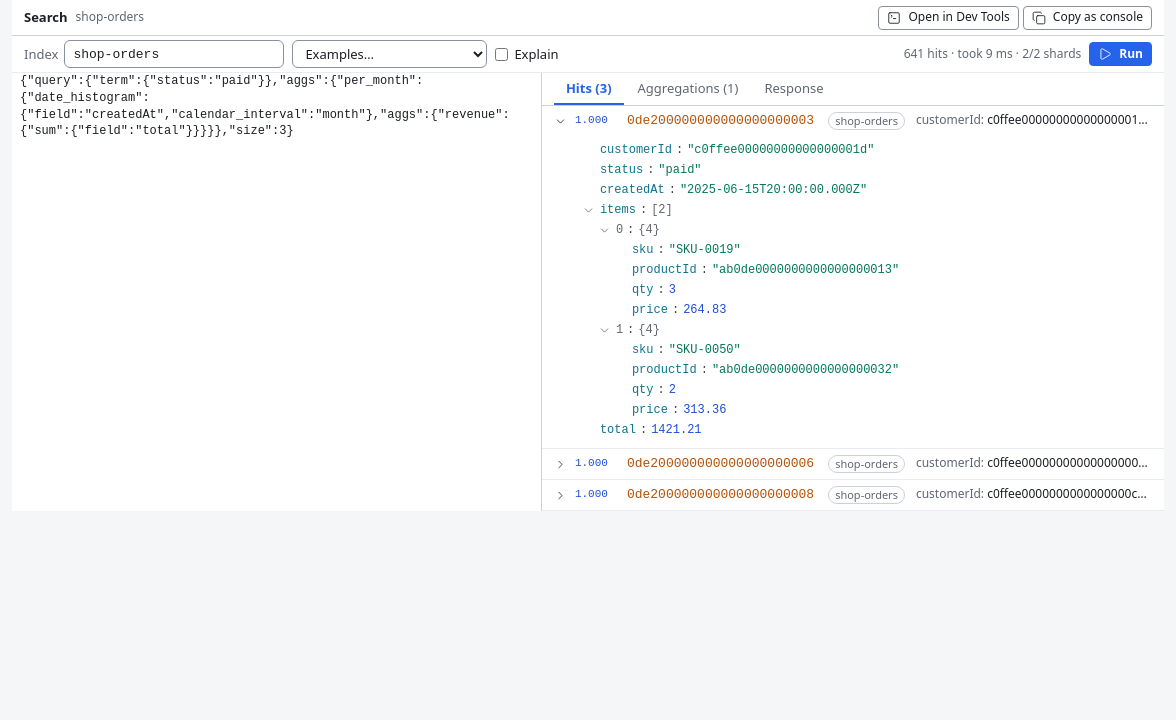
Scenario: views › search runs the DSL and shows hits and aggregations
Check: the list named "Hits" is shown, box [542,106,1164,511]
Click the tab "Aggregations (1)" at (688, 89), box [626,73,750,105]
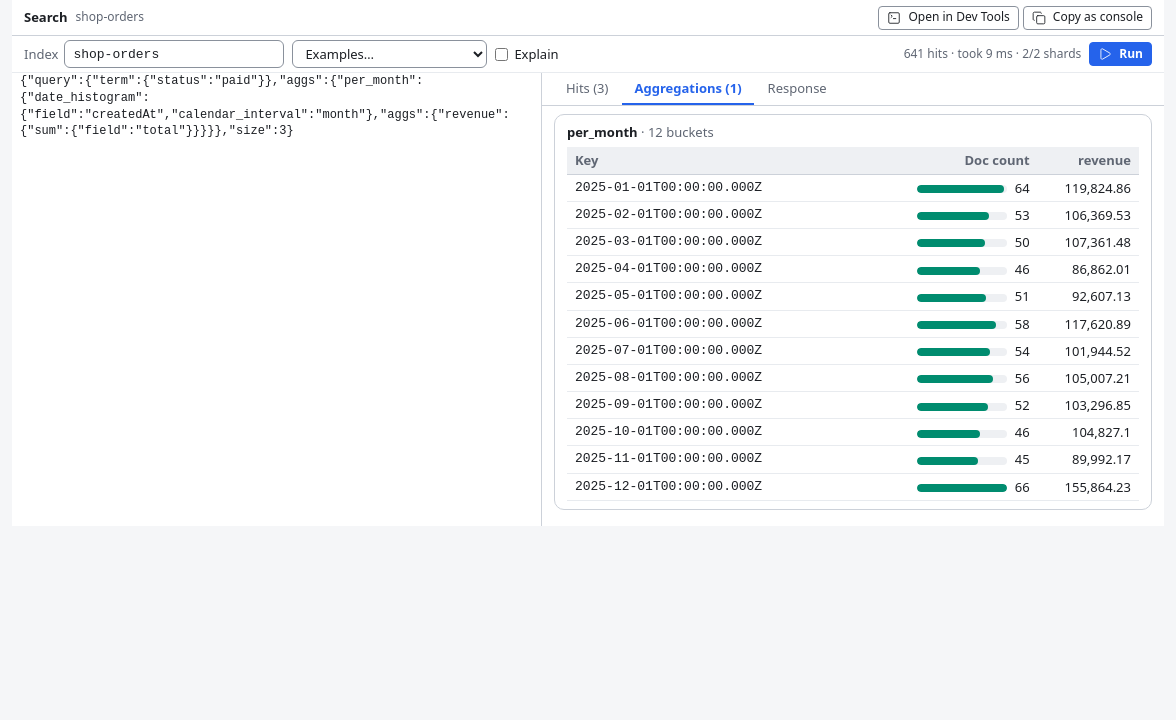
Check: the element named "Aggregation per_month" shows "revenue", box [1078,151,1131,169]
